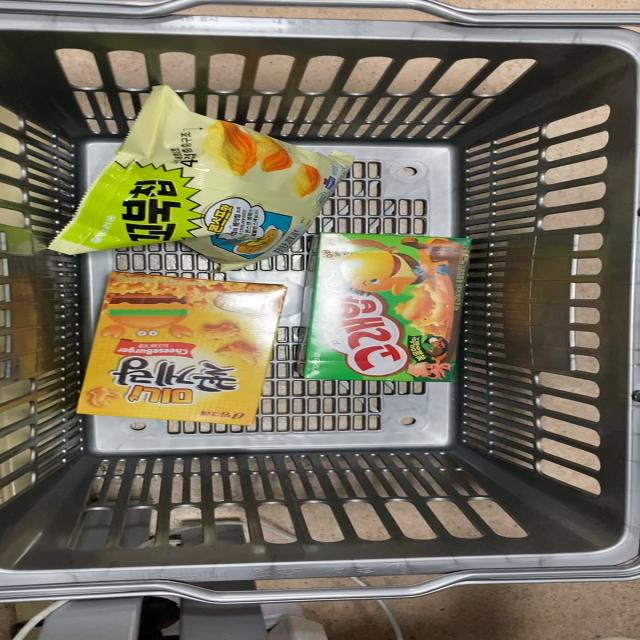ggobukchip: (64, 96, 322, 254)
goraebob: (300, 235, 482, 377)
minicrab: (75, 267, 290, 422)
